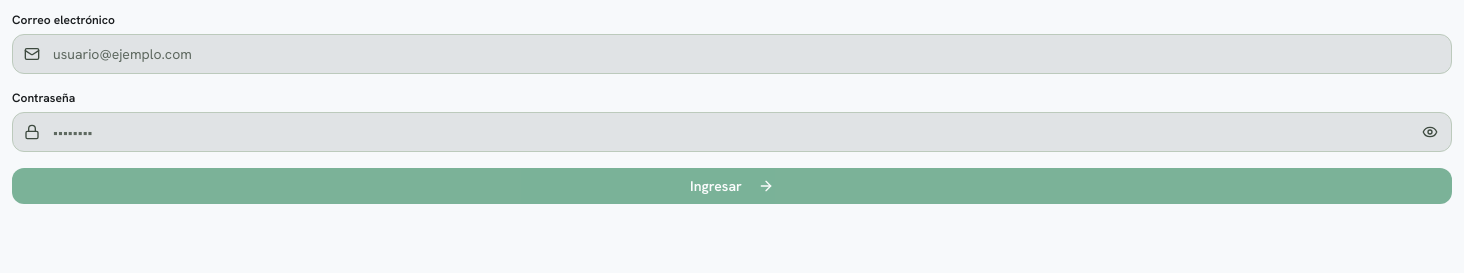
Test: LoginForm — error display › signIn con error: 'CredentialsSignin' → muestra mensaje amigable en espanol
Type "user@example.com" into the field labelled "Correo electrónico" at (732, 54), box [12, 34, 1452, 74]
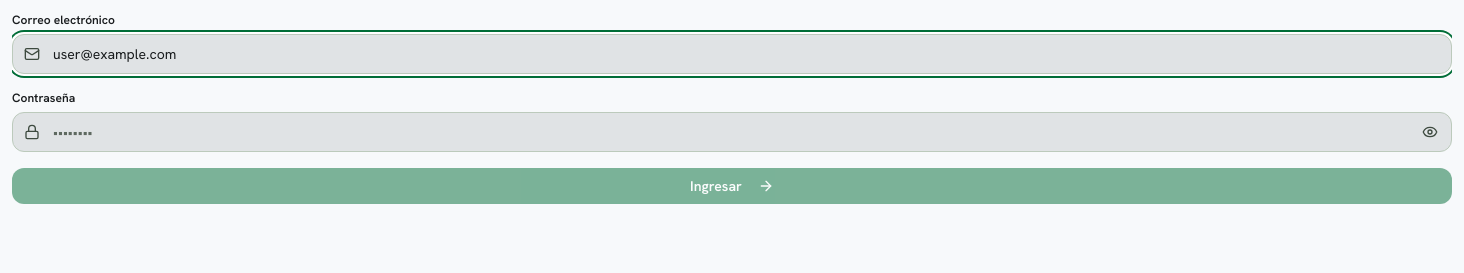
Type "wrong" into the password field labelled "Contraseña" at (732, 132), box [12, 112, 1452, 152]
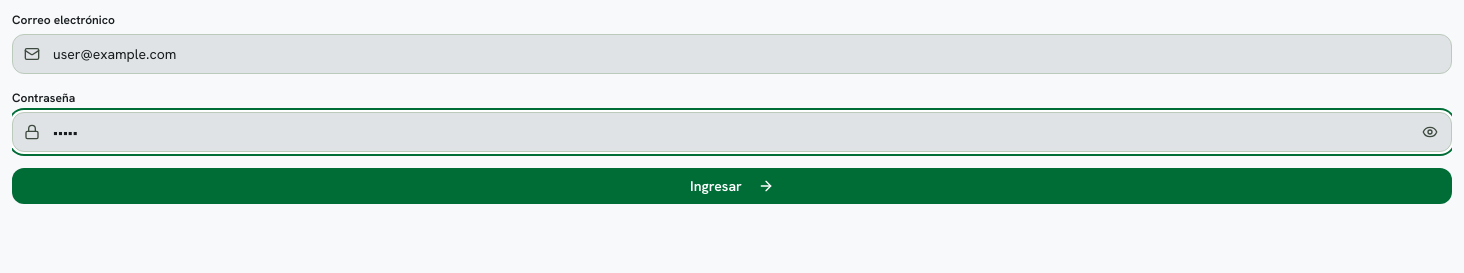
Click the button "Ingresar" at (732, 186), box [12, 168, 1452, 204]
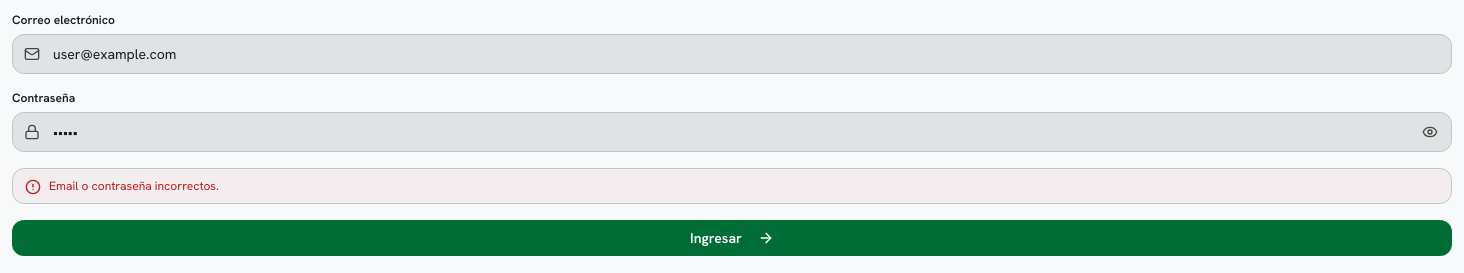
Check: the message shows "Email o contraseña incorrectos", box [49, 178, 219, 194]
